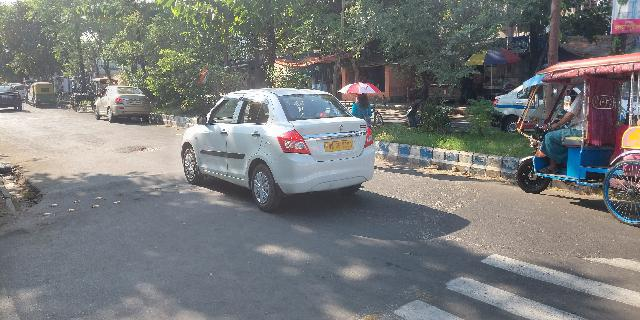Autorickshaw: (30, 78, 61, 109)
Car: (176, 84, 380, 211), (89, 81, 154, 125), (1, 81, 23, 114)
Rickshaw: (514, 56, 640, 232)
